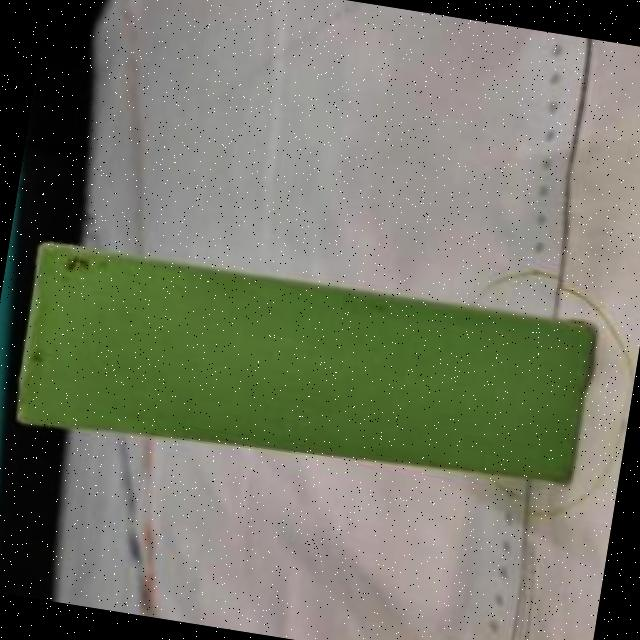greenbox: (13, 233, 596, 497)
